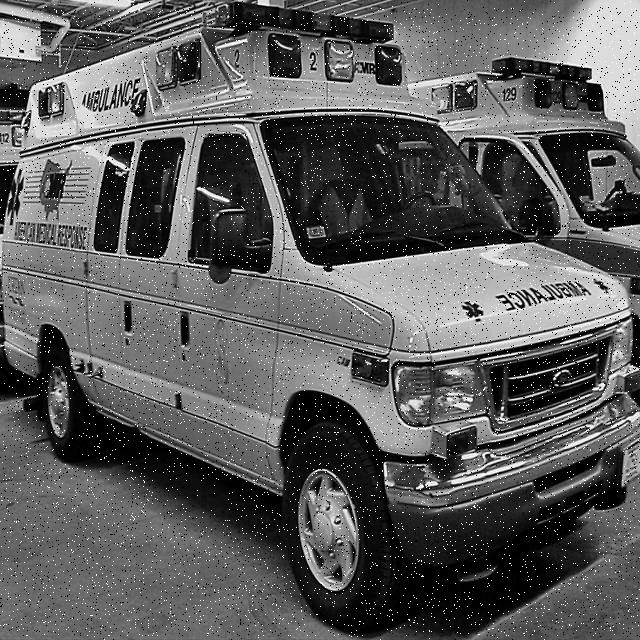Ambulance: (0, 8, 640, 636)
